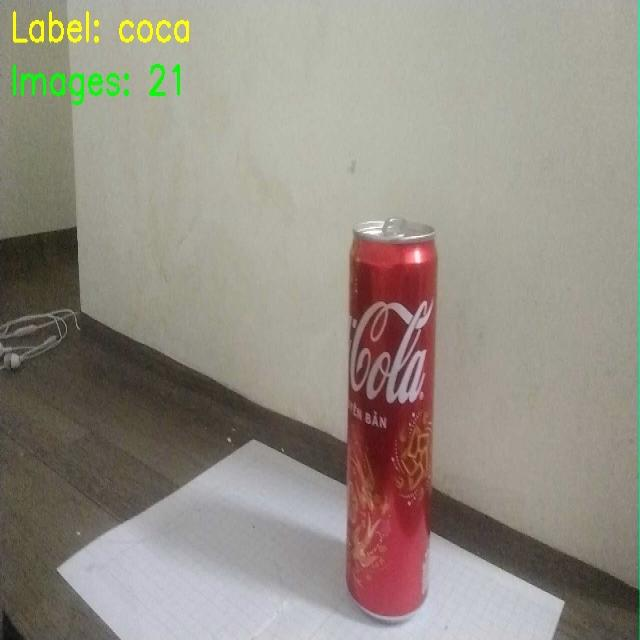Coca: (340, 199, 448, 626)
